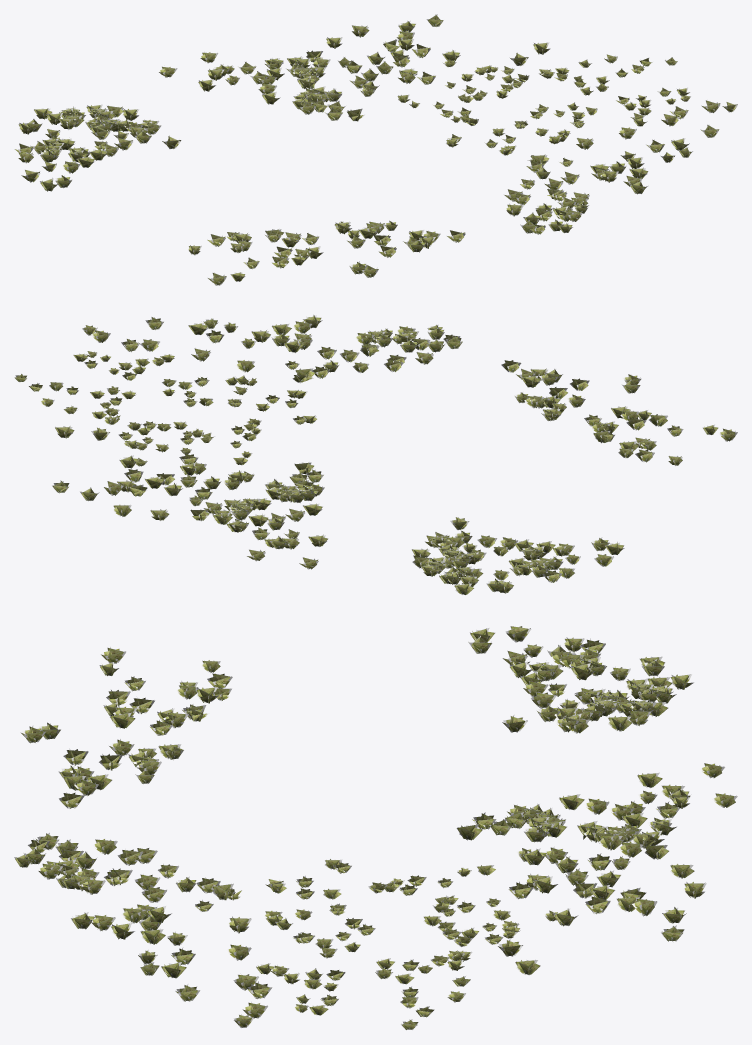
File: Bf01g_grass_1v1_add_b.fbx
The picture shows the model from 3 angles, top to bottom: view 1: azimuth 30°, elevation 25°; view 2: azimuth 150°, elevation 25°; view 3: azimuth 270°, elevation 25°; orthographic projection. The views are drawn at different scales.
Visible parts, largest first — view 1: Bf01g_grass_1v1_add_b; view 2: Bf01g_grass_1v1_add_b; view 3: Bf01g_grass_1v1_add_b.
Boxes of the visible parts, x1,y1,x2,y2 form: Bf01g_grass_1v1_add_b: (14,14,737,285); Bf01g_grass_1v1_add_b: (14,315,737,594); Bf01g_grass_1v1_add_b: (14,626,737,1029).
Bounding box in the file's own units: 183 × 2.89 × 140.
Materials: 1 (1 with a texture image).
